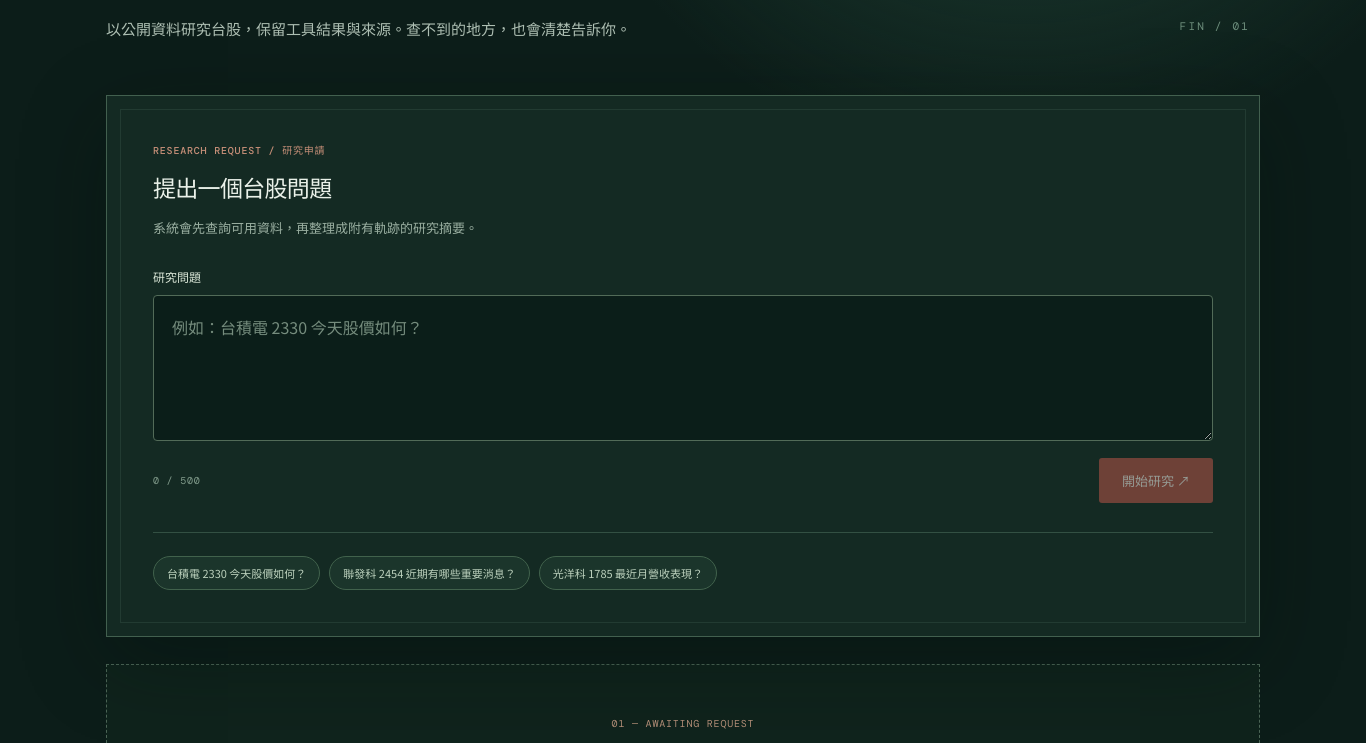
it: FinScope React research flow › asks for login again if the research session has expired
(page scrolled)
In the text box labelled "研究問題": (683, 368) [153,295,1213,441], type "2330 今天股價"
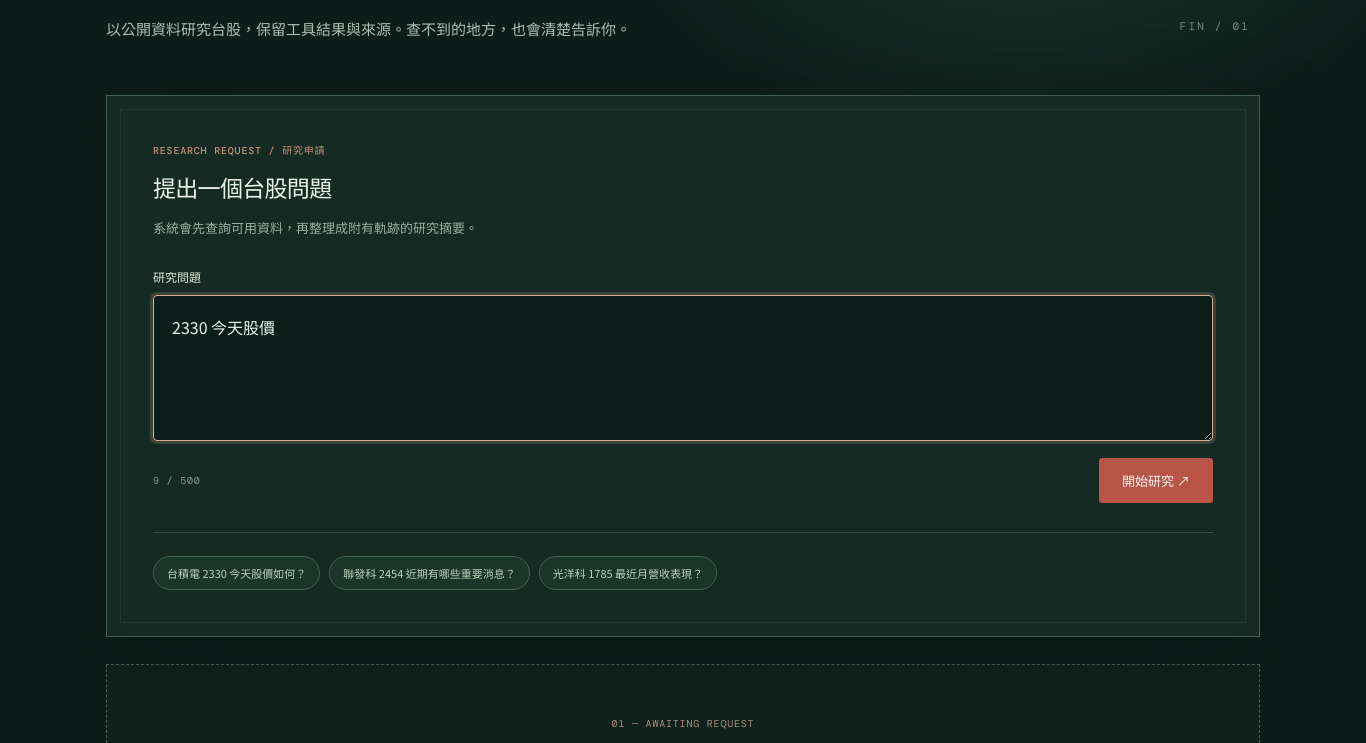
Click the button "開始研究 ↗": (1156, 481) [1099,458,1213,503]
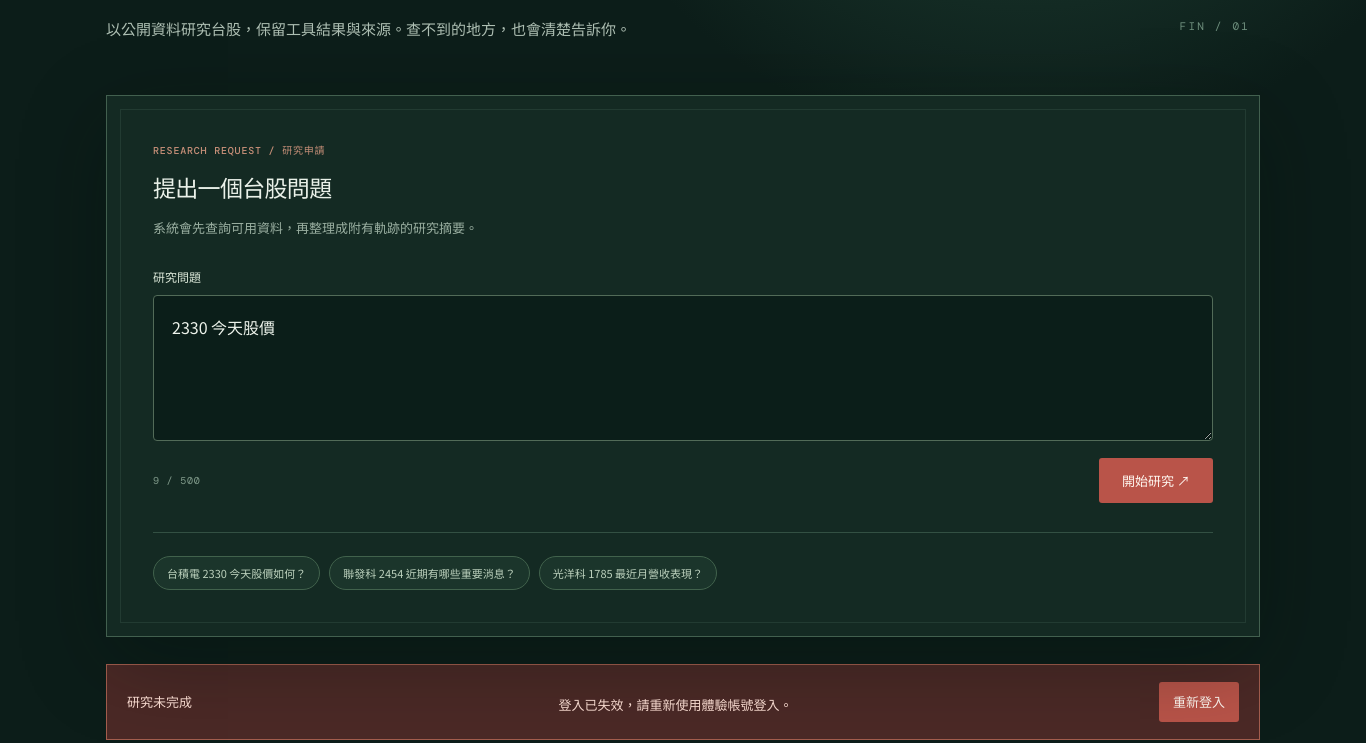
Result: the message shows "登入已失效" at [558,695,792,714]
Result: the button "重新登入" is shown at [1159,682,1239,722]
